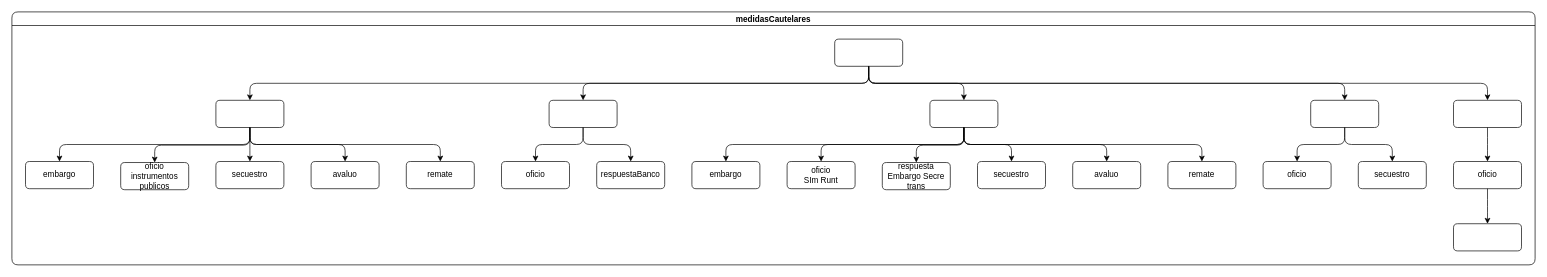
Some shapes in this 1547 by 277 pixel diagram are drawn without their labels. The centre of each missing label's shape, as x and y in pixels:
camaraDeComercio: the point at 1344,114
cuentaBancaria: the point at 582,114
empleador deposita en banco juzgado: the point at 1487,237
inmueble: the point at 249,114
medidaCautelar: the point at 868,52
salario: the point at 1487,114
vehiculo: the point at 963,114
